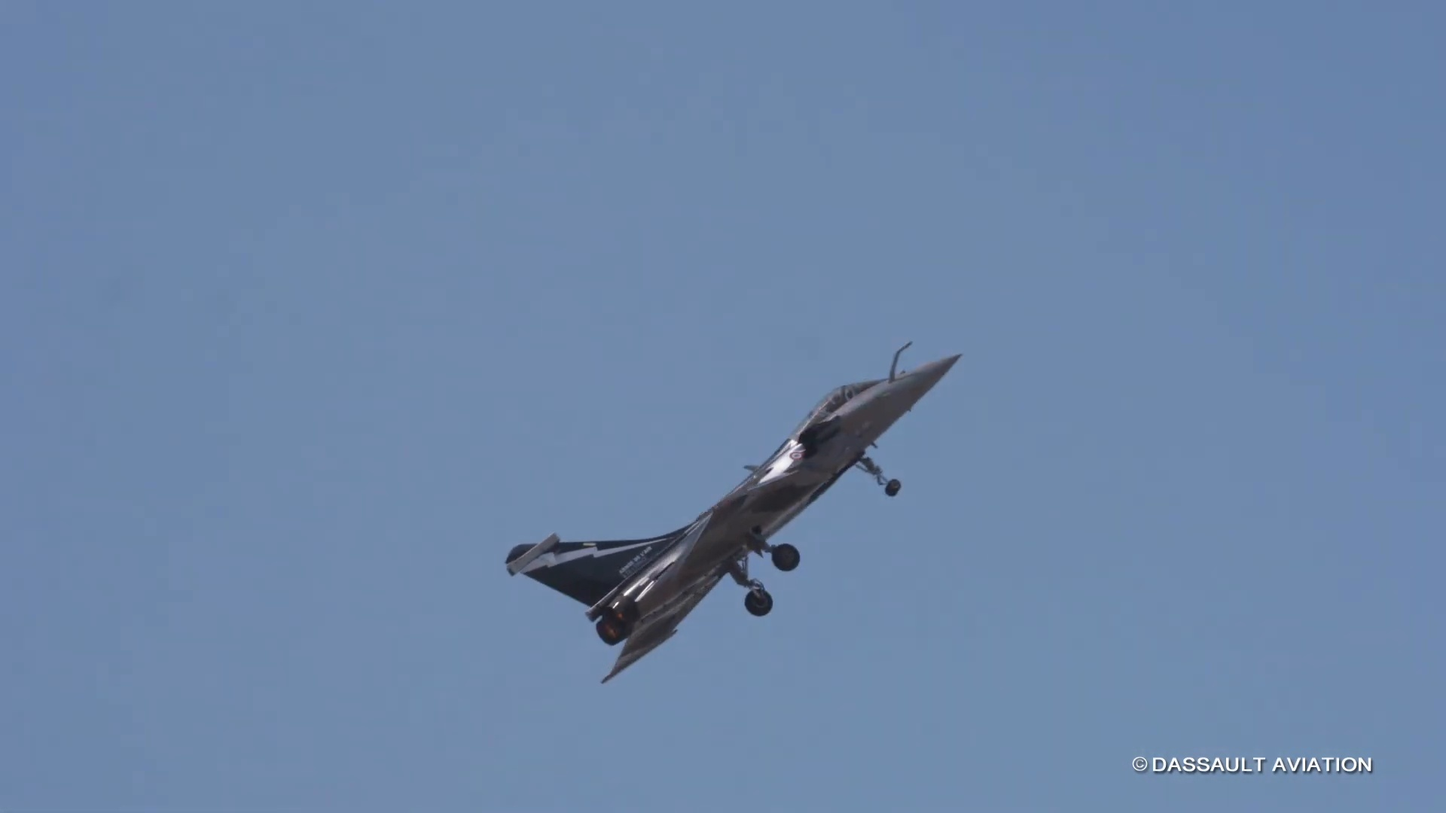Rafale: (501, 334, 969, 687)
